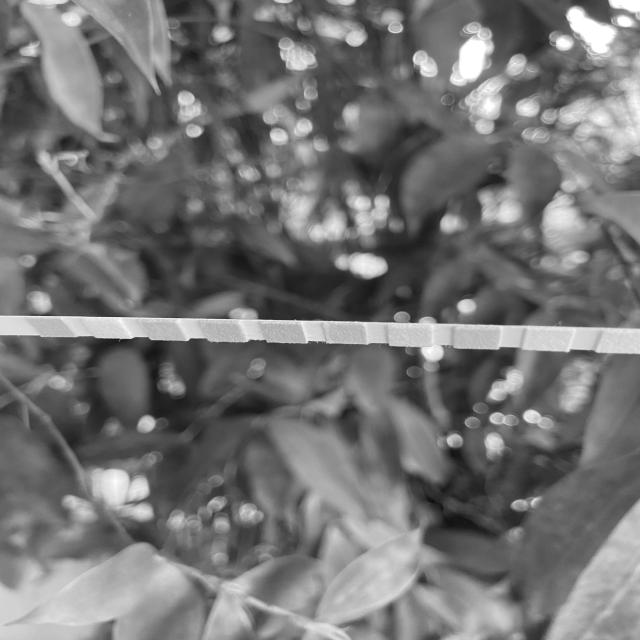Bilirubin: (92, 321, 120, 335)
Blood: (270, 326, 298, 340)
Glucose: (40, 321, 62, 334)
Ketone: (150, 324, 177, 338)
Leukocytes: (608, 333, 640, 350)
Nitrite: (534, 332, 564, 349)
Protein: (394, 327, 426, 343)
SpGravity: (210, 326, 238, 340)
Urobilinogen: (460, 330, 494, 346)
background: (0, 0, 640, 640)
pH: (330, 325, 361, 342)
strip: (0, 318, 640, 353)
